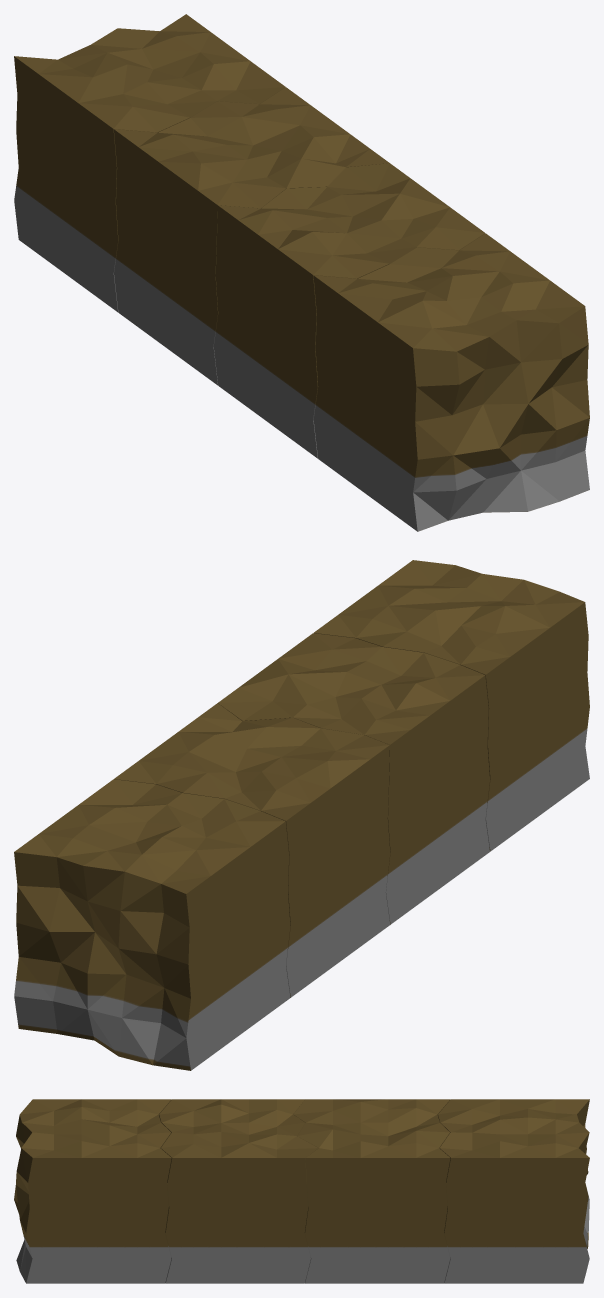
Rendered from SM_path_alt_DE.fbx.
3 views of the same model, one above another, from view 1: azimuth 30°, elevation 25°; view 2: azimuth 150°, elevation 25°; view 3: azimuth 270°, elevation 25° (orthographic). The views are drawn at different scales.
Visible parts, largest first — view 1: SM_path_1_alt_DE, SM_path_rightmid_alt_DE, SM_path_2_alt_DE, SM_path_leftmid_alt_DE; view 2: SM_path_2_alt_DE, SM_path_leftmid_alt_DE, SM_path_1_alt_DE, SM_path_rightmid_alt_DE; view 3: SM_path_1_alt_DE, SM_path_2_alt_DE, SM_path_rightmid_alt_DE, SM_path_leftmid_alt_DE.
Boxes of the visible parts, x1=… form: SM_path_1_alt_DE: x1=313, y1=233, x2=589, y2=531; SM_path_rightmid_alt_DE: x1=114, y1=87, x2=389, y2=385; SM_path_2_alt_DE: x1=14, y1=14, x2=285, y2=312; SM_path_leftmid_alt_DE: x1=213, y1=163, x2=485, y2=458; SM_path_2_alt_DE: x1=14, y1=779, x2=290, y2=1070; SM_path_leftmid_alt_DE: x1=218, y1=633, x2=489, y2=924; SM_path_1_alt_DE: x1=314, y1=560, x2=589, y2=851; SM_path_rightmid_alt_DE: x1=114, y1=703, x2=390, y2=997; SM_path_1_alt_DE: x1=14, y1=1099, x2=171, y2=1283; SM_path_2_alt_DE: x1=438, y1=1099, x2=589, y2=1283; SM_path_rightmid_alt_DE: x1=293, y1=1099, x2=450, y2=1283; SM_path_leftmid_alt_DE: x1=159, y1=1099, x2=318, y2=1283.
Bounding box in the file's own units: 120 × 498 × 127.
